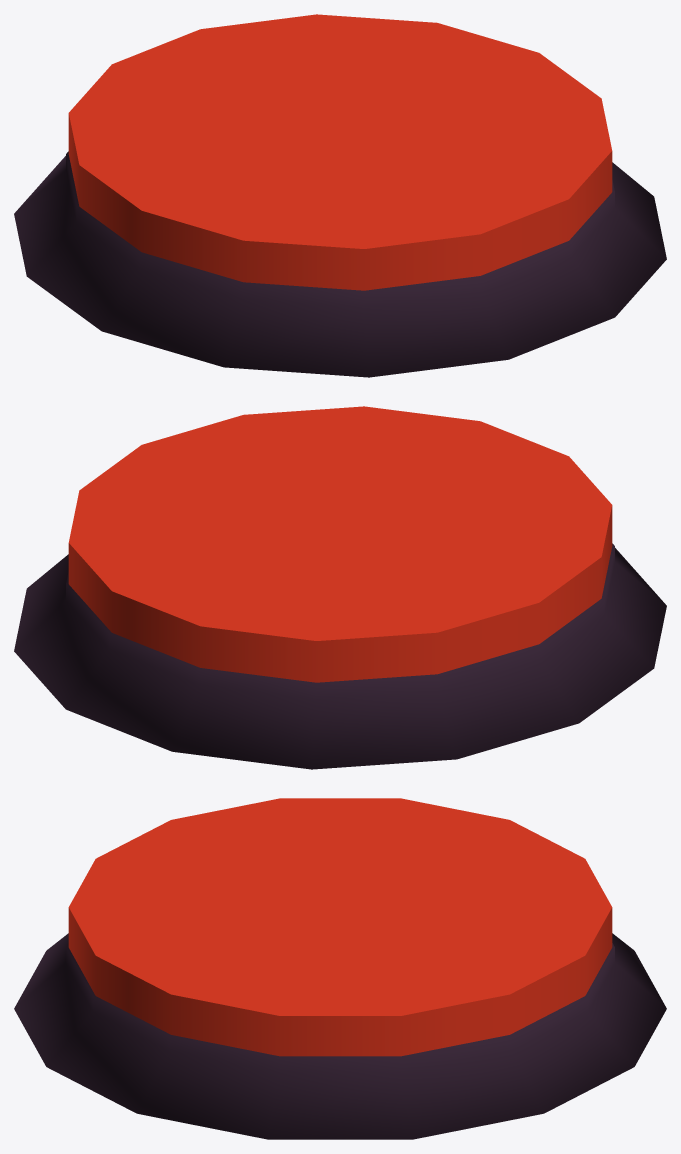
Rendered from Boton.fbx.
3 renders of one model, top to bottom at view 1: azimuth 30°, elevation 25°; view 2: azimuth 150°, elevation 25°; view 3: azimuth 270°, elevation 25°, orthographic. The views are drawn at different scales.
Parts seen in each view (by area): view 1: Cilindro.001, Cilindro; view 2: Cilindro.001, Cilindro; view 3: Cilindro.001, Cilindro.
Boxes of the visible parts, x1,y1,x2,y2 form: Cilindro.001: [68, 14, 612, 290]; Cilindro: [14, 151, 666, 377]; Cilindro.001: [68, 406, 612, 682]; Cilindro: [14, 543, 666, 769]; Cilindro.001: [68, 798, 612, 1056]; Cilindro: [14, 933, 666, 1139].
Size of the model in its own units: 57.68 by 10.45 by 60.86.
